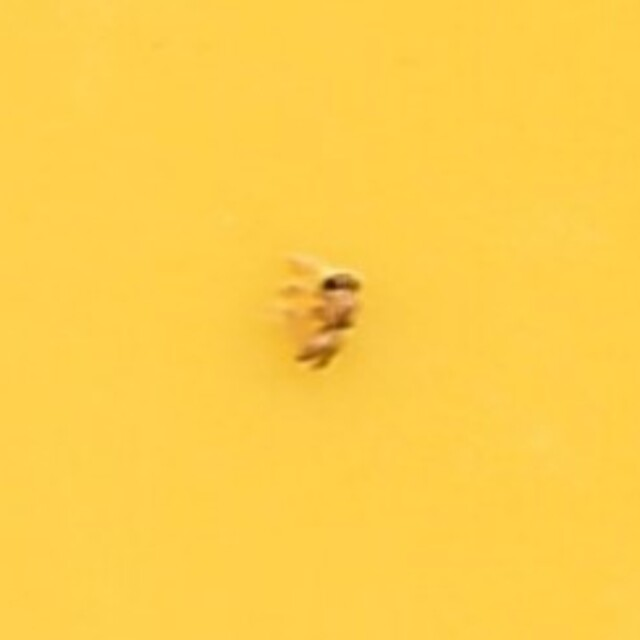Brachycera: (262, 256, 378, 384)
